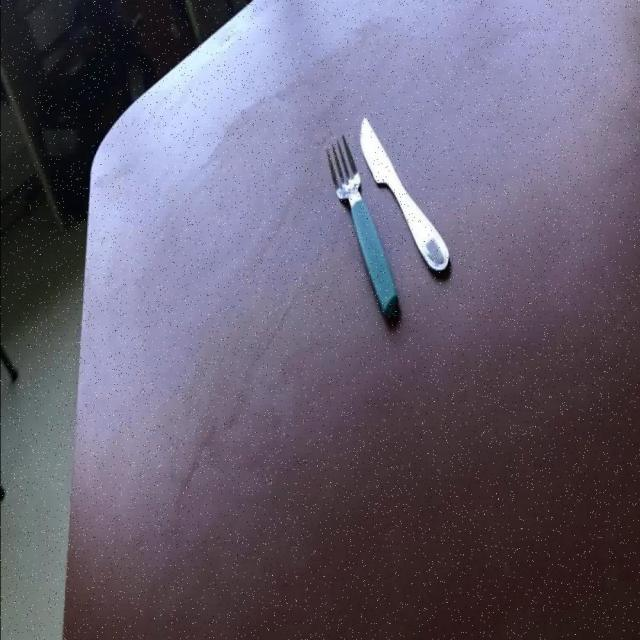Fork: (326, 133, 402, 322)
Knife: (359, 115, 452, 271), (326, 132, 402, 321)
